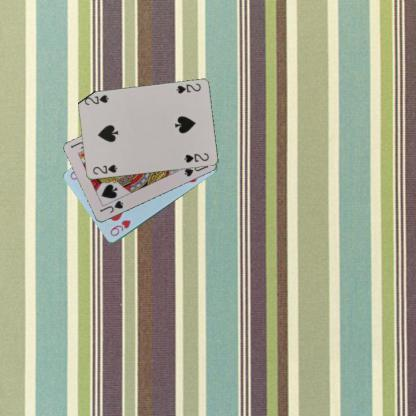2s: (90, 162, 119, 176), (173, 81, 202, 95)
9h: (107, 218, 132, 238)
Js: (97, 198, 124, 214)
